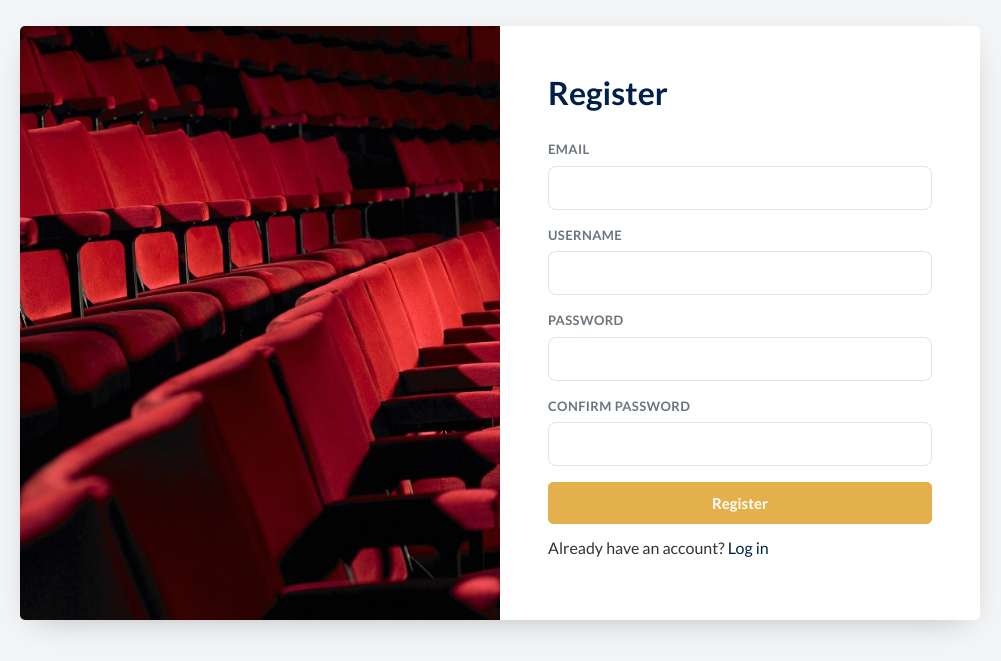
Test: RegisterPage › rejects mismatched password confirmation
Type "newuser@example.com" into the field labelled "Email".
click(740, 188); type("newuser@example.com")  # box [548,166,932,210]
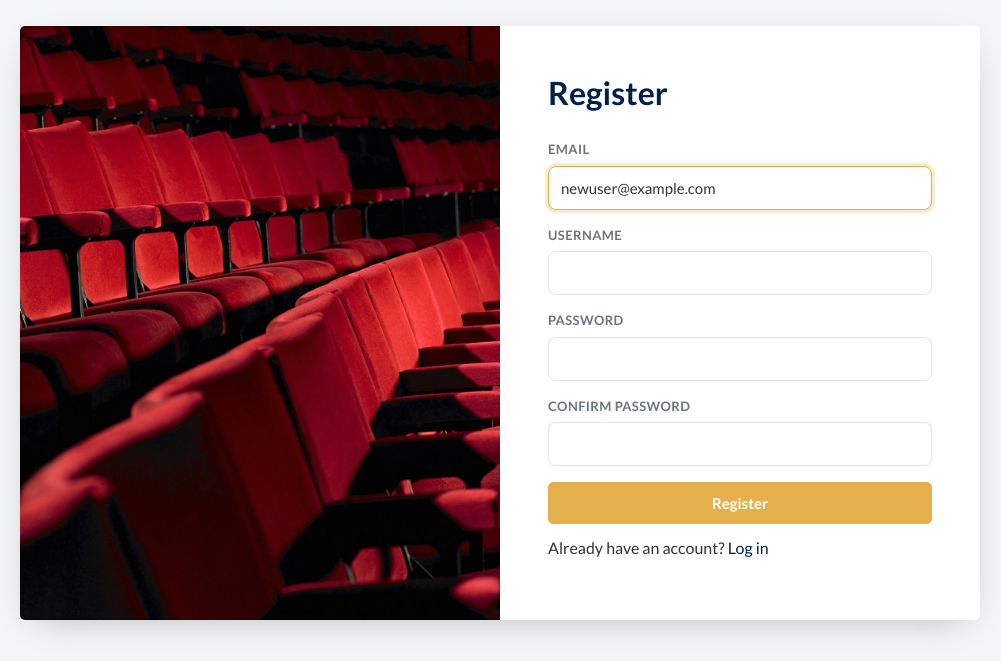
Type "newuser" into the field labelled "Username".
click(740, 273); type("newuser")  # box [548,251,932,295]
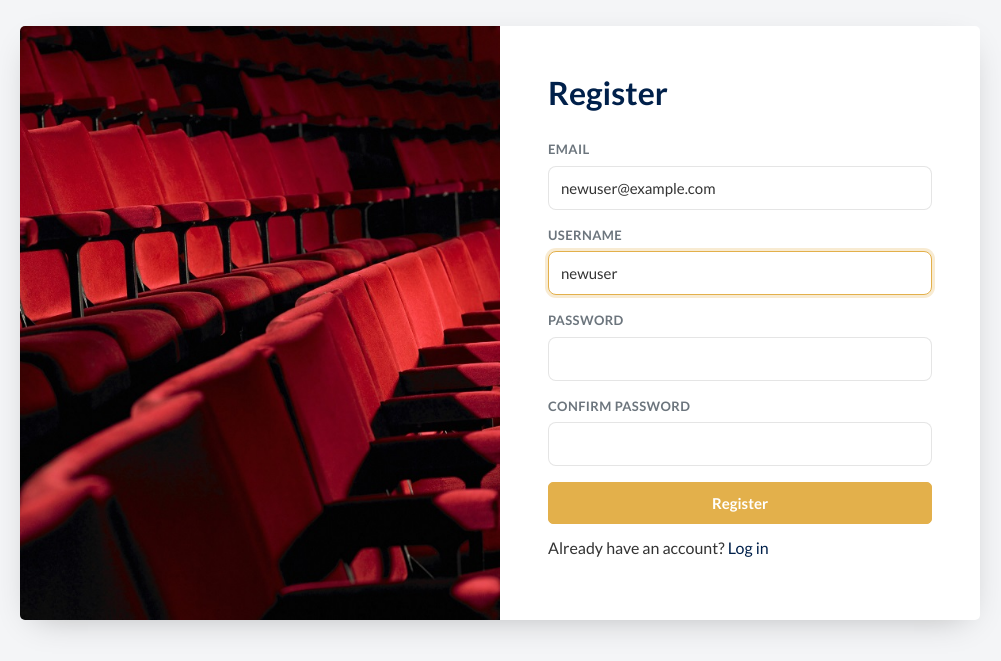
Type "Passw0rd!" into the password field labelled "Password".
click(740, 359); type("Passw0rd!")  # box [548,337,932,381]
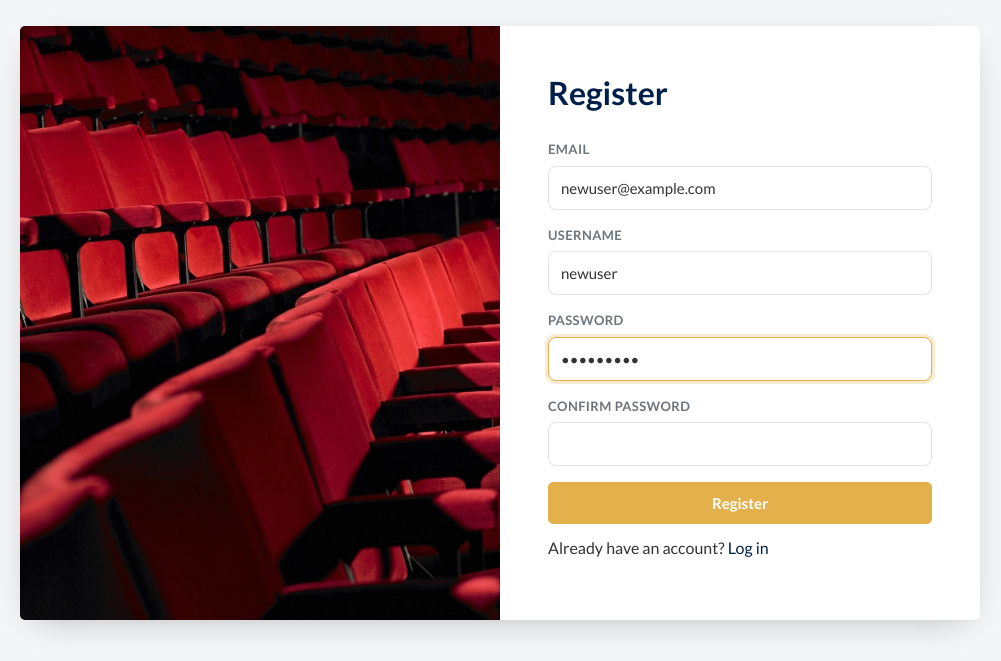
Type "Different1!" into the password field labelled "Confirm password".
click(740, 444); type("Different1!")  # box [548,422,932,466]
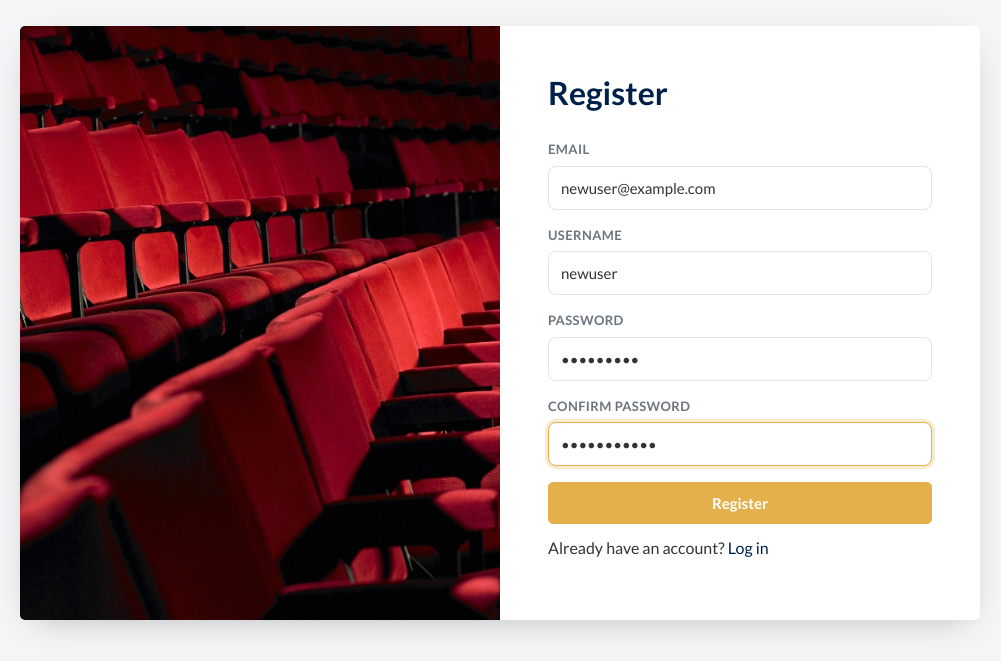
Click the button "Register".
click(740, 503)  # box [548,482,932,524]
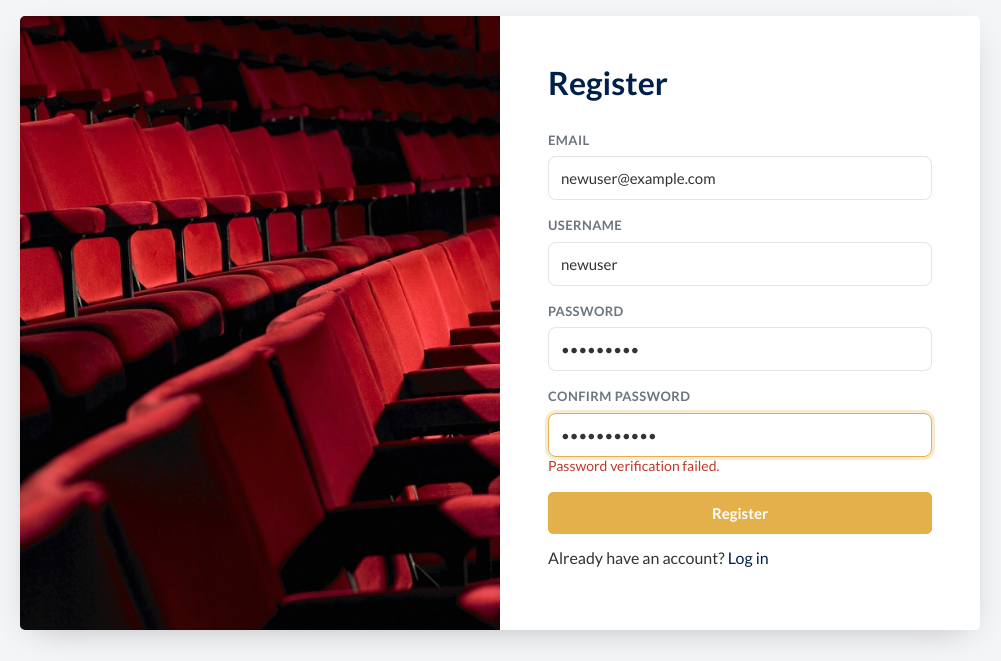
Result: the text "Password verification failed." is shown at [548,457,720,474]
